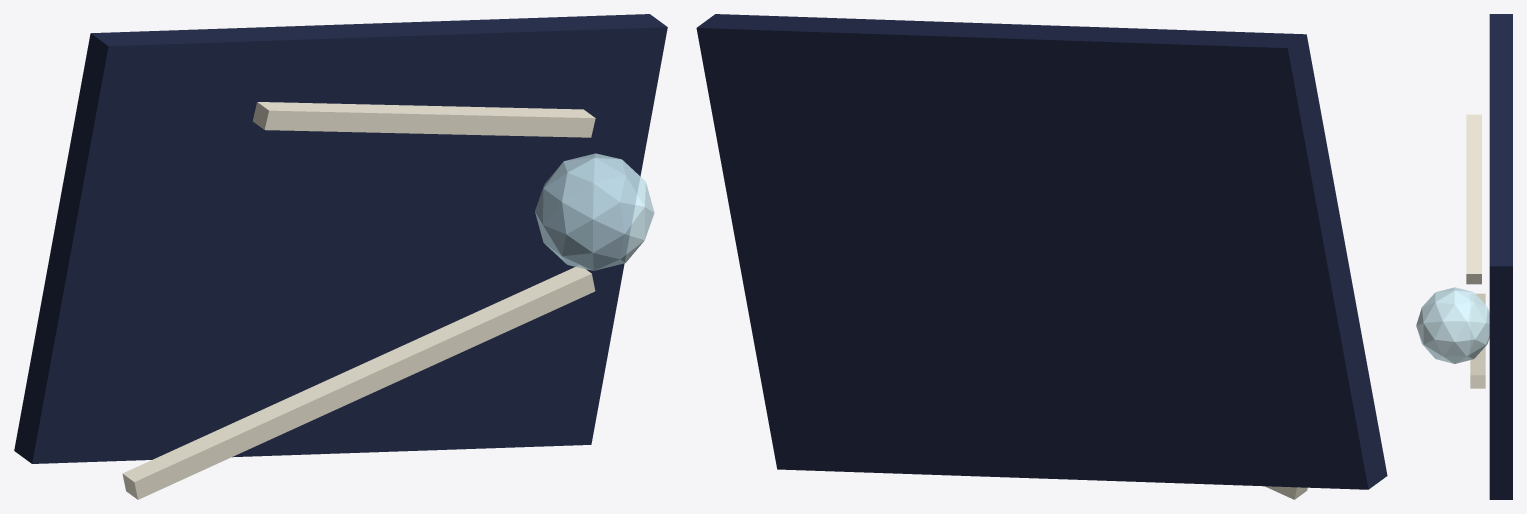
The model's file is 02_world_prop_polish.glb.
The picture shows the model from 3 angles, left to right: view 1: azimuth 30°, elevation 25°; view 2: azimuth 150°, elevation 25°; view 3: azimuth 270°, elevation 25°; orthographic projection. The views are drawn at different scales.
Parts seen in each view (by area): view 1: object_overlay_plate, edge_wear_a, glow_socket, edge_wear_b; view 2: object_overlay_plate; view 3: object_overlay_plate, glow_socket, edge_wear_b, edge_wear_a.
Boxes of the visible parts, bbox=[...] form: object_overlay_plate: bbox=[14, 14, 667, 463]; edge_wear_a: bbox=[122, 266, 595, 499]; glow_socket: bbox=[535, 153, 654, 270]; edge_wear_b: bbox=[252, 102, 595, 137]; object_overlay_plate: bbox=[696, 14, 1387, 489]; object_overlay_plate: bbox=[1489, 14, 1512, 499]; glow_socket: bbox=[1416, 287, 1489, 363]; edge_wear_b: bbox=[1466, 114, 1481, 284]; edge_wear_a: bbox=[1470, 293, 1485, 388].
Bounding box in the file's own units: 1.23 × 0.9515 × 0.25.
